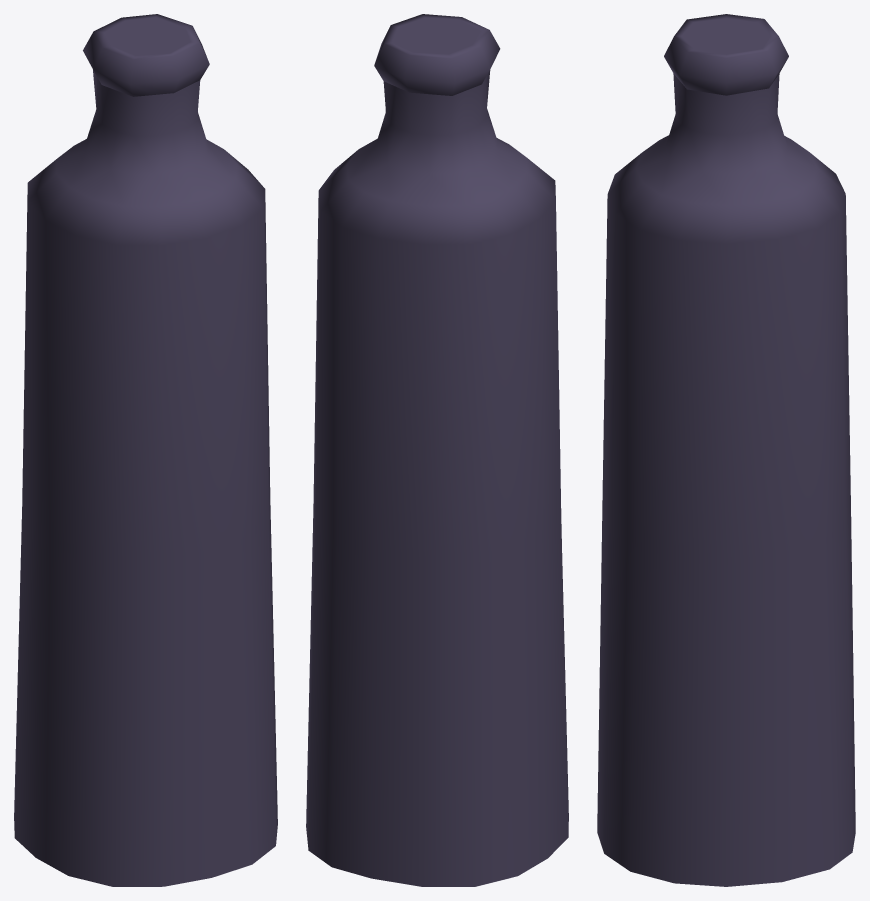
Rendered from flaske3_lilla.fbx.
3 renders of one model, left to right at view 1: azimuth 30°, elevation 25°; view 2: azimuth 150°, elevation 25°; view 3: azimuth 270°, elevation 25°, orthographic.
Visible parts, largest first — view 1: pCube14; view 2: pCube14; view 3: pCube14.
Boxes of the visible parts, x1,y1,x2,y2 form: pCube14: (14,14,277,886); pCube14: (306,14,568,886); pCube14: (597,14,855,886).
Size of the model in its own units: 0.9438 by 3.21 by 0.9438.
